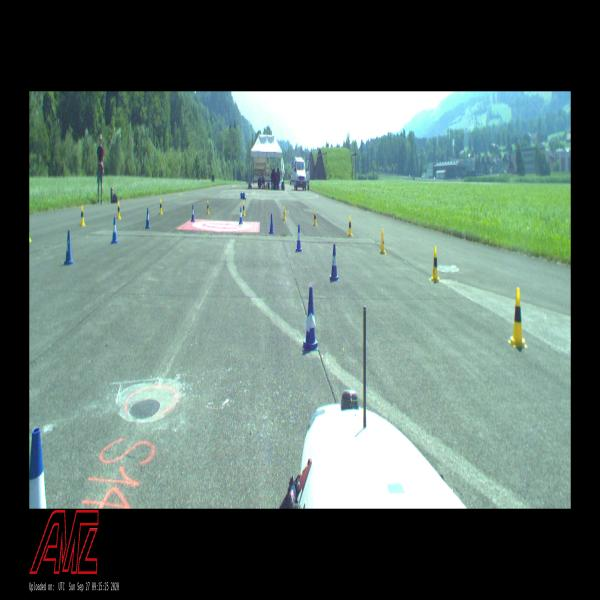blue_cone: (29, 429, 47, 508), (302, 287, 319, 351), (64, 231, 74, 265), (330, 245, 339, 282), (295, 224, 303, 252), (112, 217, 118, 243), (145, 208, 151, 229), (269, 214, 274, 234), (191, 205, 195, 222), (239, 208, 243, 224)
yellow_cone: (508, 289, 527, 349), (431, 248, 440, 282), (379, 228, 386, 255), (347, 216, 353, 237), (80, 205, 85, 226), (117, 202, 121, 219), (313, 210, 317, 226), (206, 200, 210, 215), (159, 199, 163, 214), (282, 206, 286, 221), (242, 201, 246, 216)
